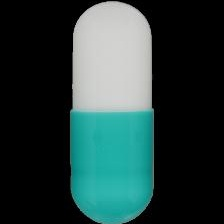0093-5268: (0, 0, 224, 224)
